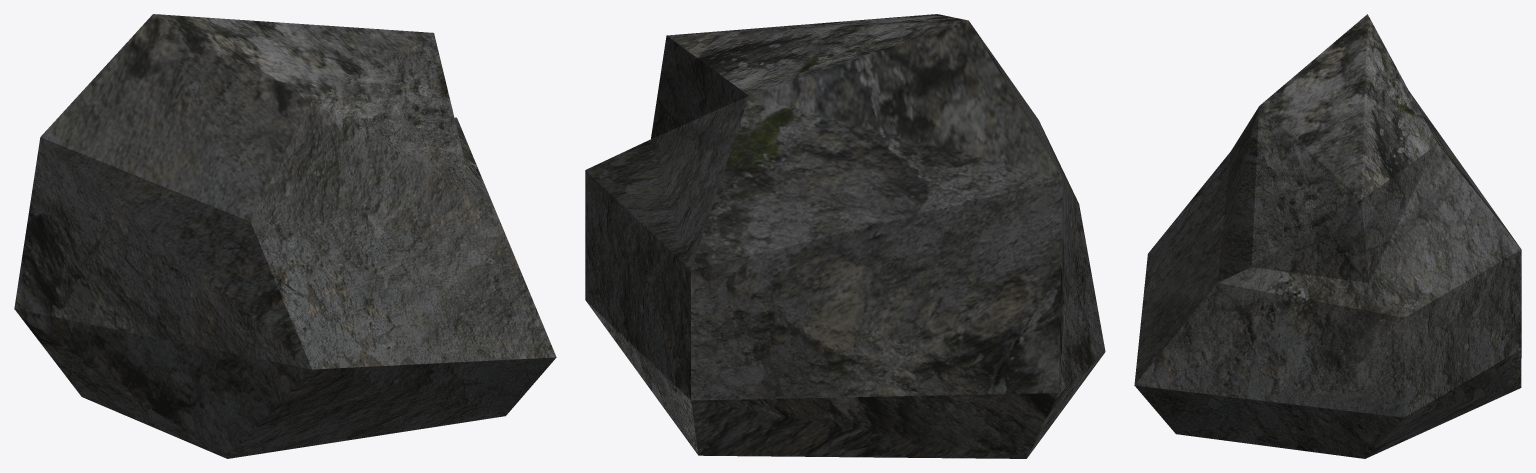
Rendered from Rock_2.fbx.
3 renders of one model, left to right at view 1: azimuth 30°, elevation 25°; view 2: azimuth 150°, elevation 25°; view 3: azimuth 270°, elevation 25°, orthographic. The views are drawn at different scales.
Parts seen in each view (by area): view 1: Rock_2; view 2: Rock_2; view 3: Rock_2.
Part boxes in pixels (x1=…): Rock_2: x1=14, y1=14, x2=556, y2=458; Rock_2: x1=585, y1=14, x2=1105, y2=458; Rock_2: x1=1134, y1=14, x2=1521, y2=458.
Bounding box in the file's own units: 123 × 108 × 111.
